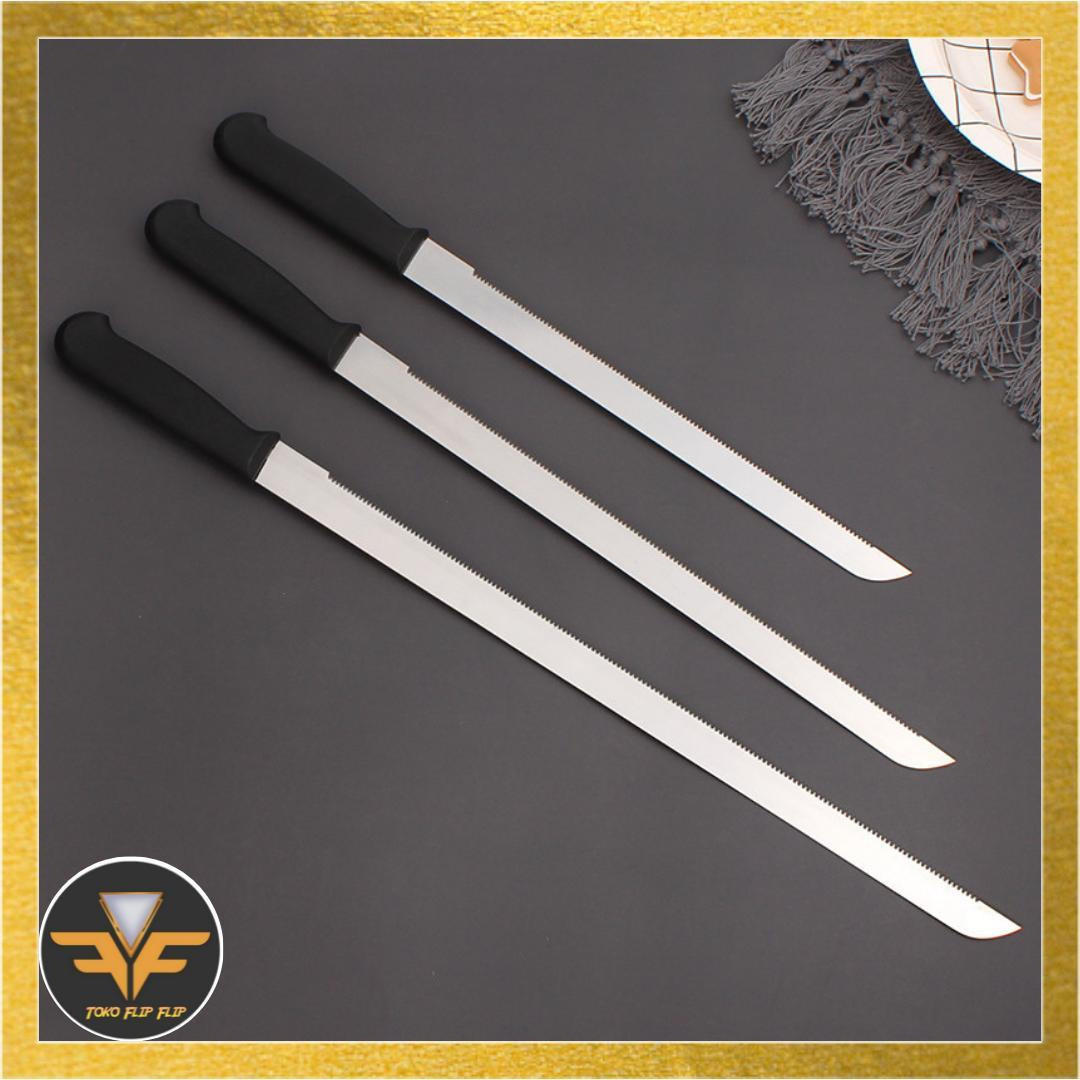espada: (58, 313, 1013, 938), (151, 204, 951, 769), (215, 114, 909, 581)
